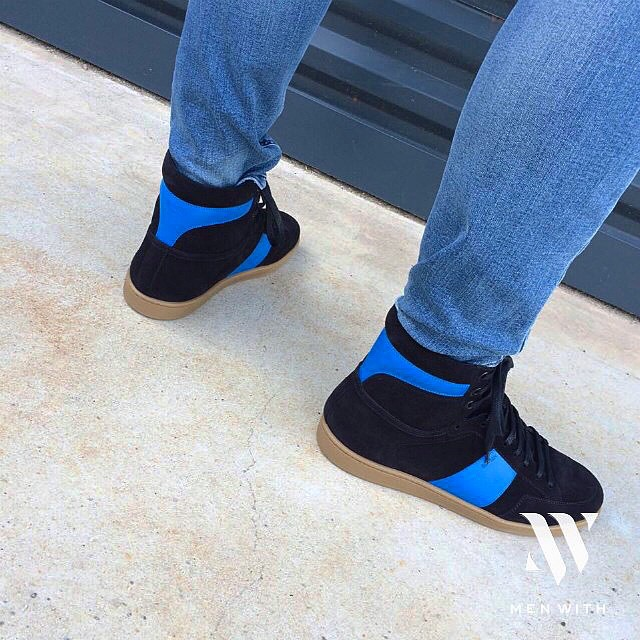sneaker: (297, 294, 620, 549), (106, 148, 319, 339)
